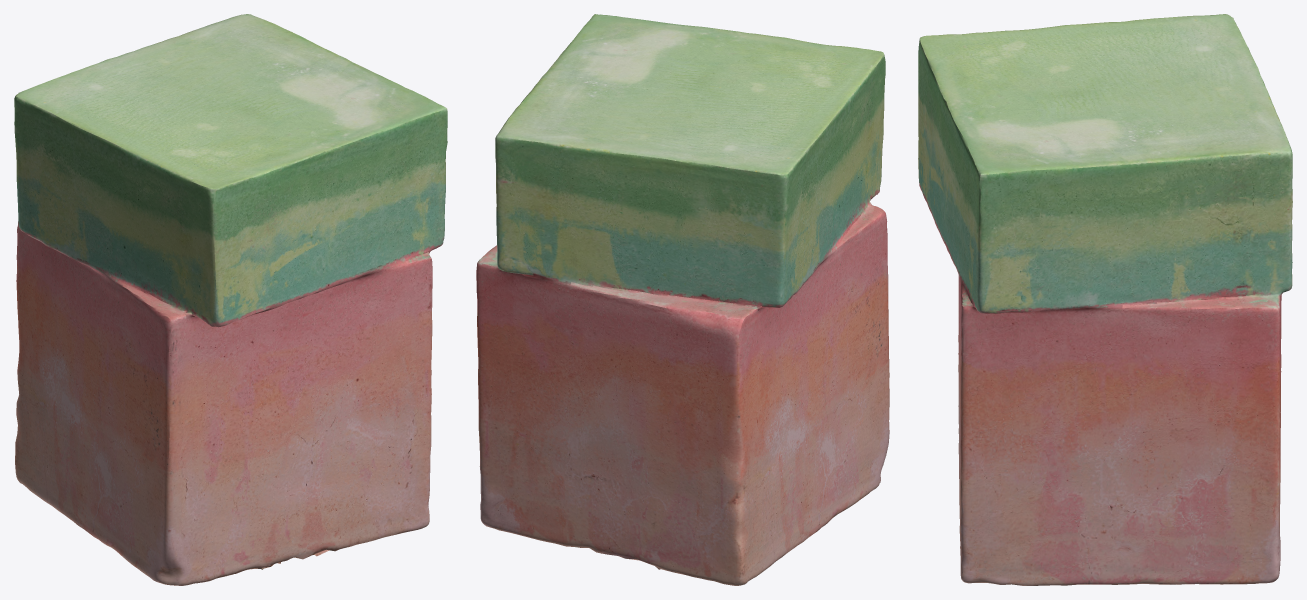
File: KuengCaputo_SandChair_2100.glb
3 renders of one model, left to right at view 1: azimuth 30°, elevation 25°; view 2: azimuth 150°, elevation 25°; view 3: azimuth 270°, elevation 25°, orthographic. The views are drawn at different scales.
Parts seen in each view (by area): view 1: Retopo_sandhocker.001; view 2: Retopo_sandhocker.001; view 3: Retopo_sandhocker.001.
Part boxes in pixels (x1,y1,x2,y2): Retopo_sandhocker.001: (14,14,447,585); Retopo_sandhocker.001: (476,14,889,585); Retopo_sandhocker.001: (918,14,1292,585).
Bounding box in the file's own units: 0.3516 × 0.4424 × 0.3488.
Materials: 1 (1 with a texture image).
